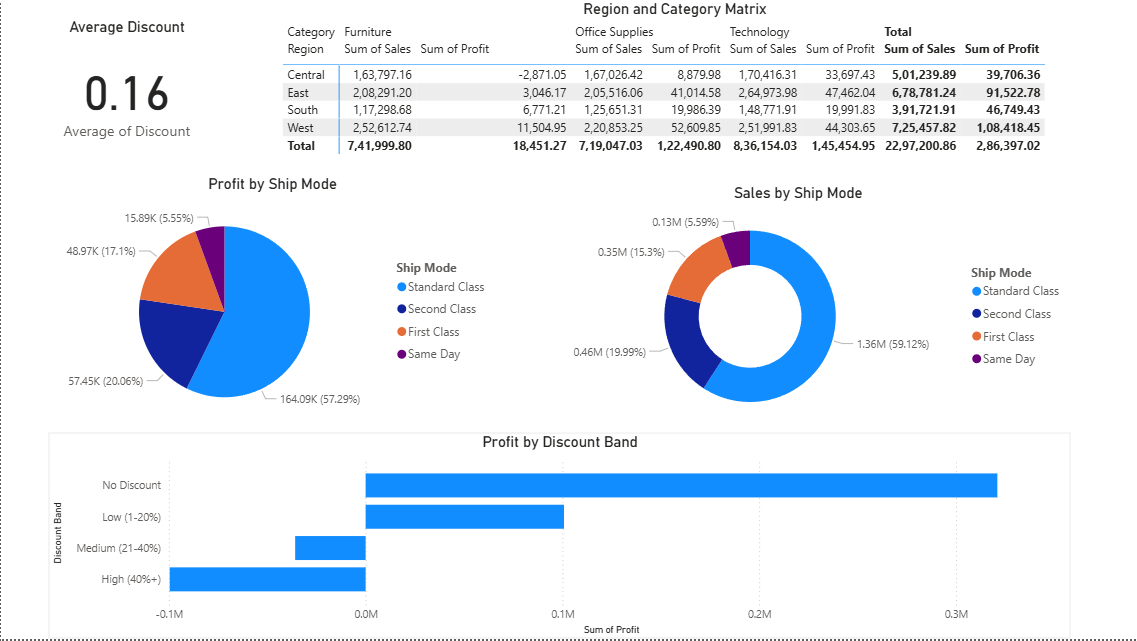

Layout of this report page (visuals, bound fields, positions):
{"tool":"powerbi","page":{"name":"Operational insights","canvas":[1280,720],"ordinal":3},"visuals":[{"type":"clusteredBarChart","title":"Profit by Discount Band","fields":{"Category":["Sample - Superstore.Discount Band"],"Y":["Sum(Sample - Superstore.Profit)"]},"box":[53.5,487.1,1152.7,233.3],"z":0},{"type":"pivotTable","title":"Region and Category Matrix","fields":{"Rows":["Sample - Superstore.Region"],"Columns":["Sample - Superstore.Category"],"Values":["Sum(Sample - Superstore.Sales)","Sum(Sample - Superstore.Profit)"]},"box":[312.9,0,893.3,242.9],"z":1000},{"type":"donutChart","title":" Sales by Ship Mode","fields":{"Category":["Sample - Superstore.Ship Mode"],"Y":["Sum(Sample - Superstore.Sales)"]},"box":[590.1,207.2,616.1,279.9],"z":2000},{"type":"pieChart","title":" Profit by Ship Mode","fields":{"Category":["Sample - Superstore.Ship Mode"],"Y":["Sum(Sample - Superstore.Profit)"]},"box":[53.5,197.6,505,289.5],"z":3000},{"type":"card","title":"Average Discount","fields":{"Values":["Avg(Sample - Superstore.Discount)"]},"box":[0,19.2,284,159.2],"z":4000}]}

Visuals, with their boxes in screenshot pixels (x1, y1, x2, y2), scaled from the page's 1280x720 canvas onto the 1137x641 screenshot:
"Profit by Discount Band" clusteredBarChart: [x1=48, y1=434, x2=1071, y2=640]
"Region and Category Matrix" pivotTable: [x1=278, y1=0, x2=1071, y2=216]
" Sales by Ship Mode" donutChart: [x1=524, y1=184, x2=1071, y2=434]
" Profit by Ship Mode" pieChart: [x1=48, y1=176, x2=496, y2=434]
"Average Discount" card: [x1=0, y1=17, x2=252, y2=159]
